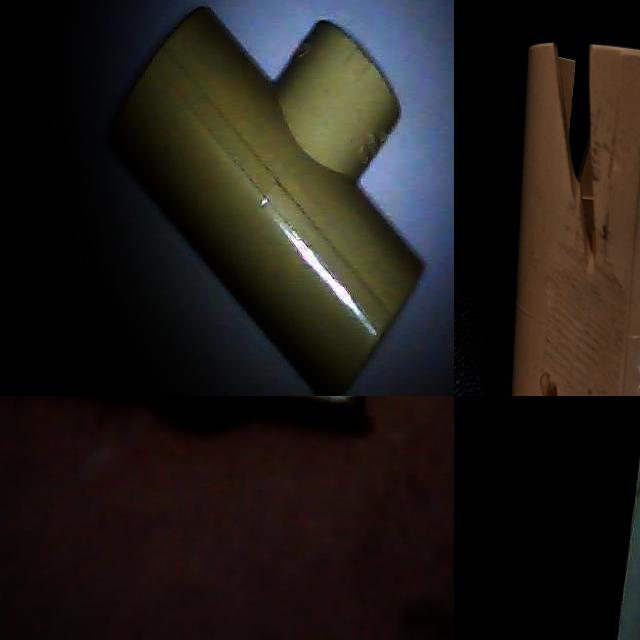Defective: (532, 105, 568, 282)
T Joint: (108, 7, 424, 396), (454, 104, 640, 396), (532, 112, 640, 396)
